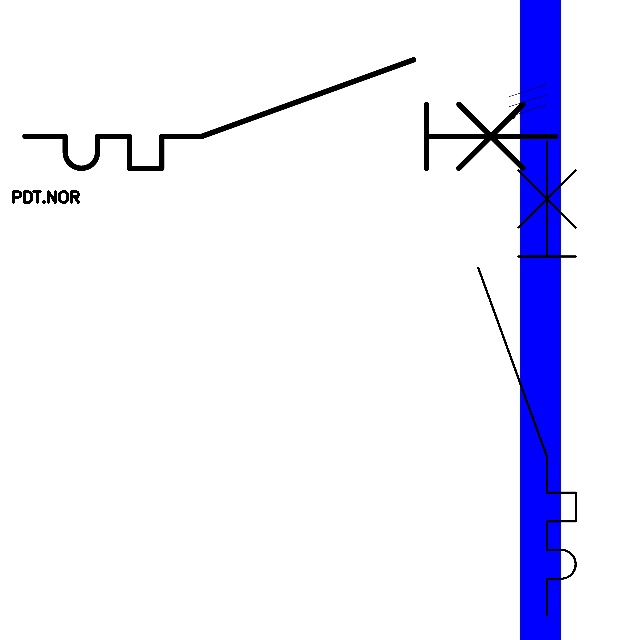interruptor_termomagnetico: (11, 46, 569, 182), (466, 129, 588, 627)
